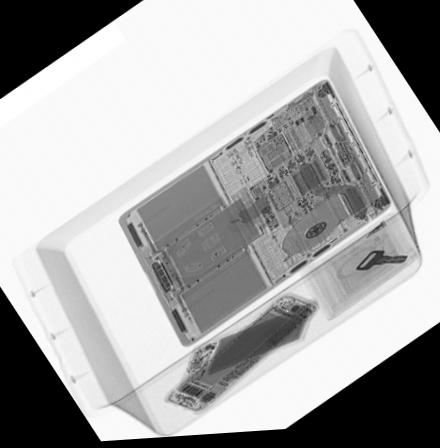Powerbank: (175, 300, 319, 393)
